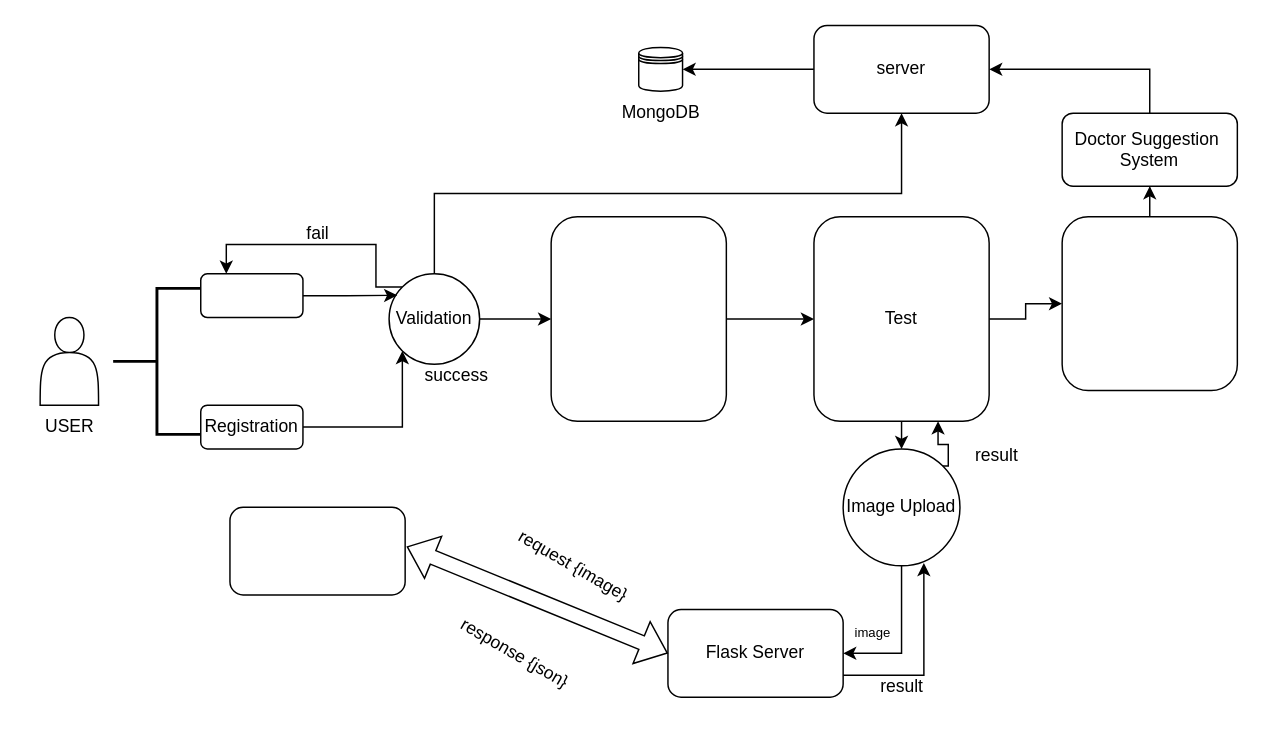
Some shapes in this 1263 by 737 pixel diagram are drawn without their labels. Here are the shapes that lost their labels. From the top down, the centre of each, then its label:
At point 251,295: "Login".
At point 1149,303: "Result Output".
At point 638,318: "home".
At point 316,550: "ML Model".
